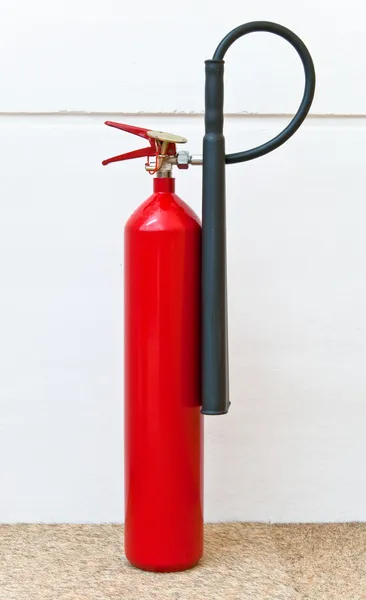fire_extinguisher: (101, 119, 204, 573)
